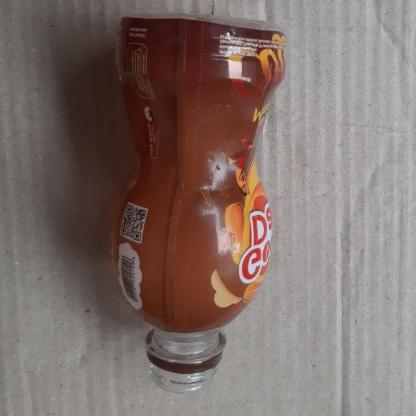Plastic Bottle: (113, 6, 289, 394)
